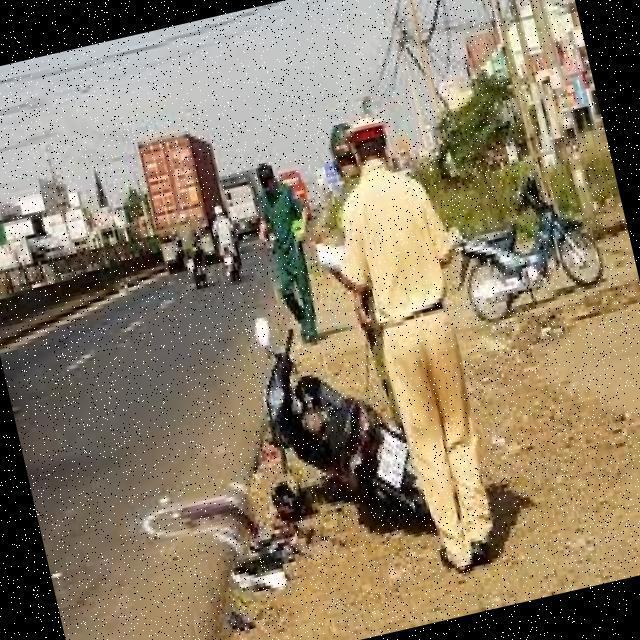accident: (207, 275, 439, 556)
